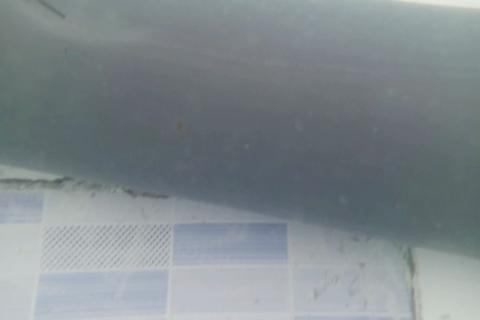keretakan: (36, 0, 66, 22)
